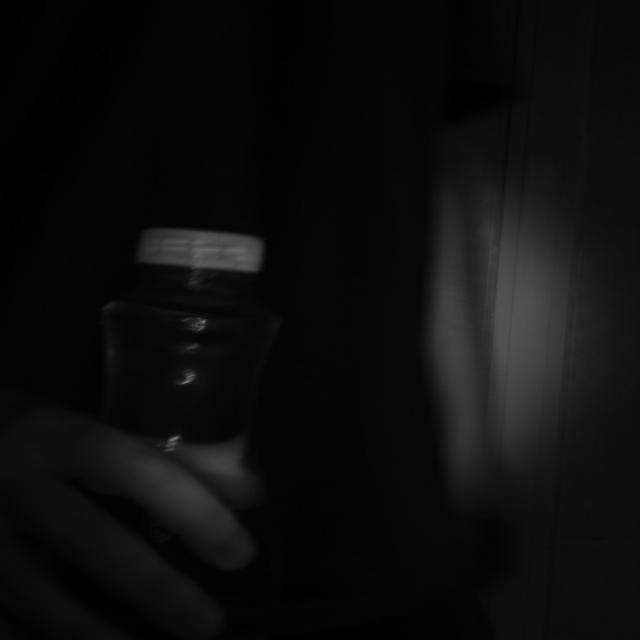Good: (138, 228, 268, 274)
